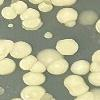white: (34, 46, 66, 68), (45, 57, 71, 77), (9, 40, 33, 61), (55, 38, 81, 57), (54, 7, 81, 24), (65, 80, 91, 97), (18, 85, 47, 100), (76, 8, 98, 26), (19, 17, 45, 32), (70, 87, 100, 100), (70, 58, 91, 76), (61, 74, 88, 88), (17, 53, 38, 71), (22, 71, 47, 86), (0, 56, 17, 78), (17, 7, 42, 21), (0, 38, 14, 61), (0, 5, 19, 21), (29, 59, 47, 75), (9, 1, 29, 15), (44, 0, 80, 7), (86, 71, 100, 87), (60, 19, 79, 30), (37, 2, 54, 14), (40, 30, 55, 42), (89, 48, 100, 64), (92, 16, 100, 34), (89, 61, 100, 74), (39, 91, 52, 100), (25, 0, 48, 4), (0, 85, 7, 97), (6, 22, 16, 30), (9, 97, 25, 100), (49, 95, 58, 100), (0, 0, 6, 7)
